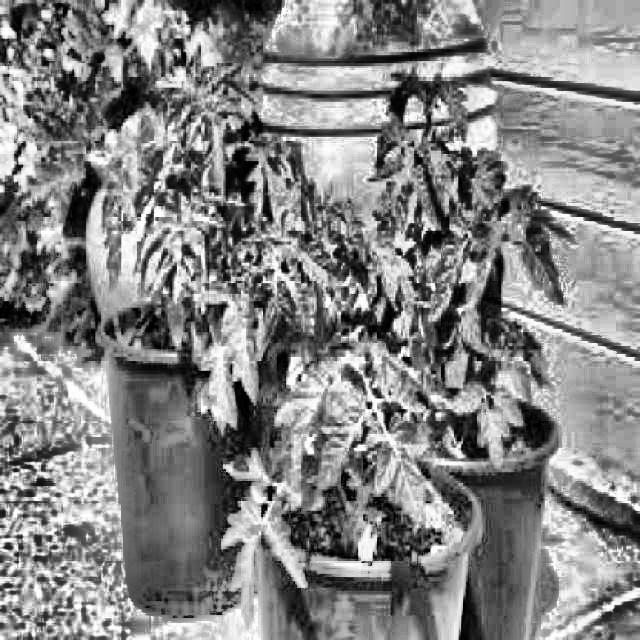plants: (358, 66, 572, 634), (89, 23, 282, 606), (238, 171, 479, 637), (2, 0, 102, 340)
